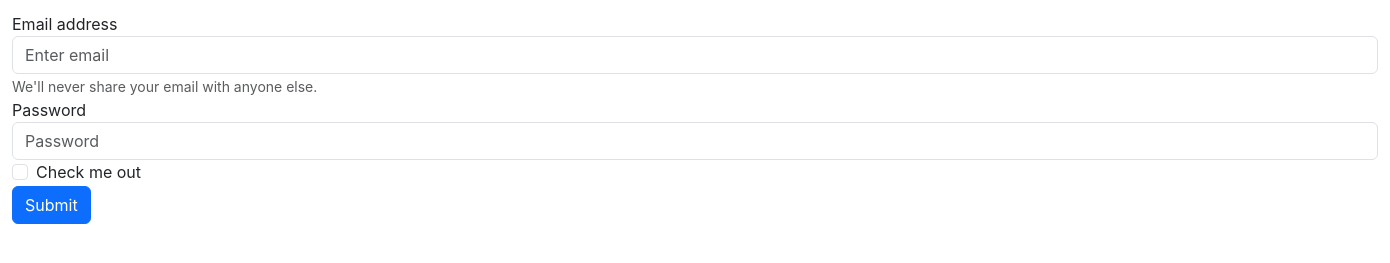
Test case: Login › handles invalid JSON response
Type "nate@example.com" into the field labelled "Email address" at (695, 55), box [12, 36, 1378, 74]
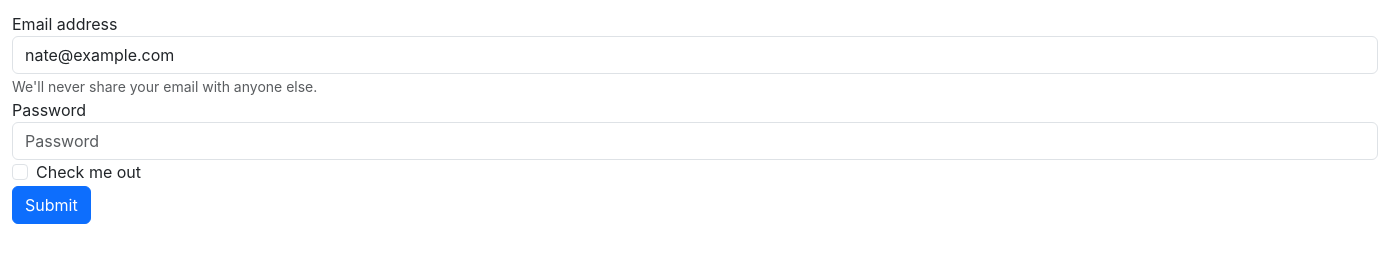
Type "password123" into the password field labelled "Password" at (695, 141), box [12, 122, 1378, 160]
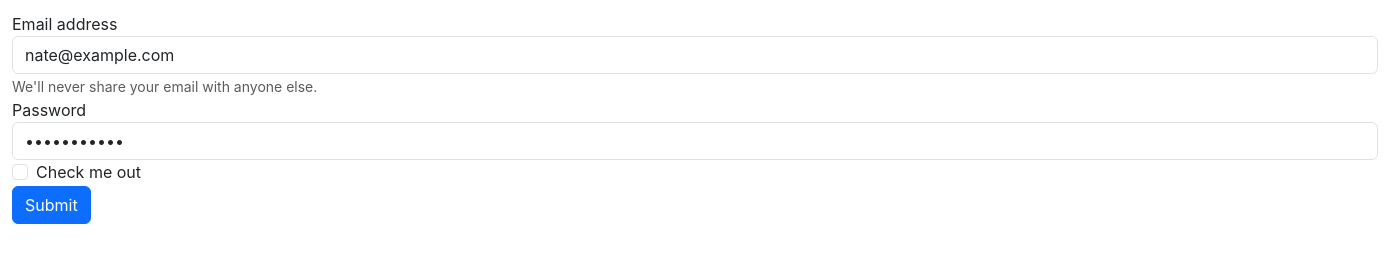
Click the button "Submit" at (51, 205), box [12, 186, 91, 224]
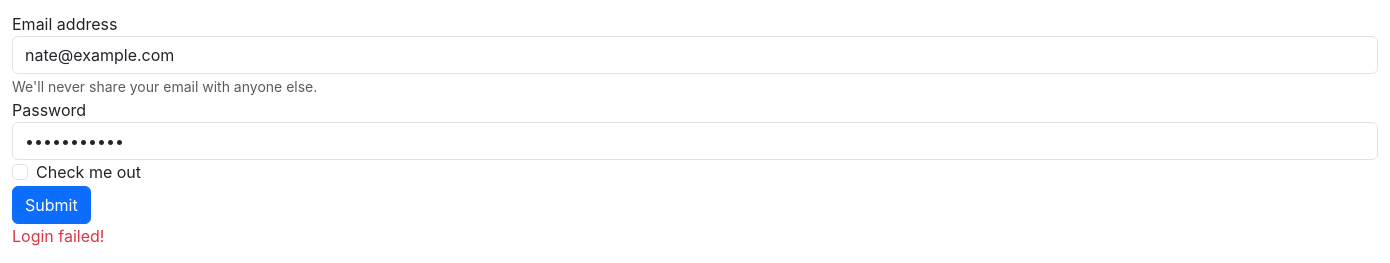
expect the text "Login failed!" is shown: met, box [12, 226, 104, 246]
